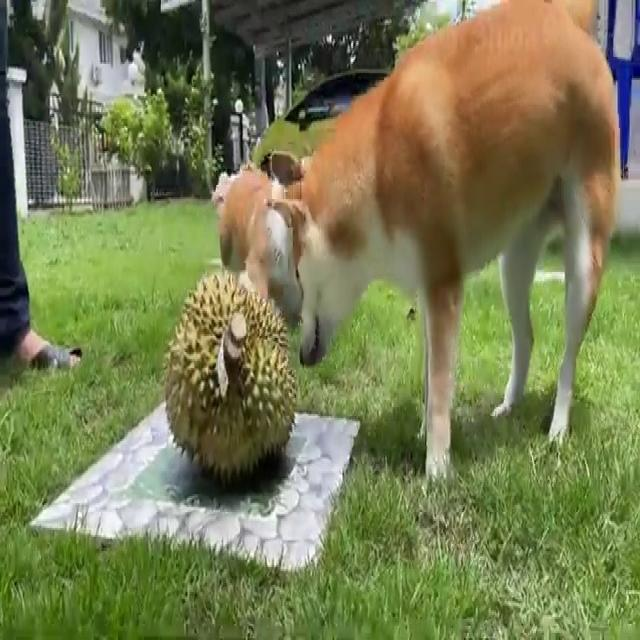durian: (162, 264, 300, 490)
